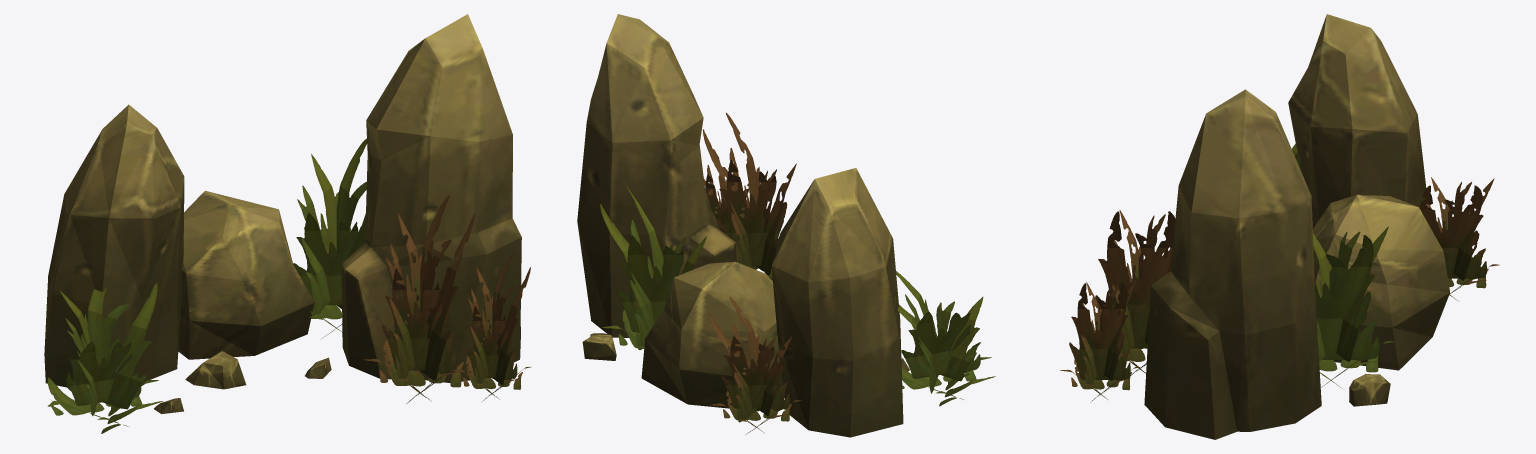
File: esthgraveyard_rocks_01.fbx
3 views of the same model, side by side, from view 1: azimuth 30°, elevation 25°; view 2: azimuth 150°, elevation 25°; view 3: azimuth 270°, elevation 25° (orthographic). The views are drawn at different scales.
Visible parts, largest first — view 1: obj2.011; view 2: obj2.011; view 3: obj2.011.
Part boxes in pixels (bbox=[...]): obj2.011: bbox=[44, 14, 531, 433]; obj2.011: bbox=[577, 14, 995, 437]; obj2.011: bbox=[1060, 14, 1499, 439].
Bounding box in the file's own units: 3.67 × 2.38 × 3.15.
